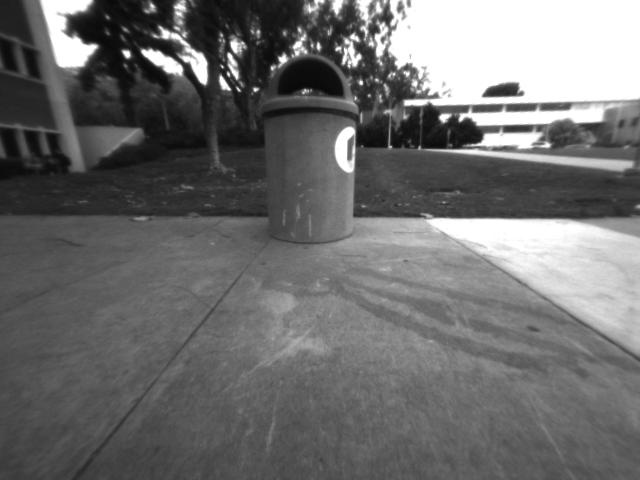trashcan: (258, 54, 363, 244)
